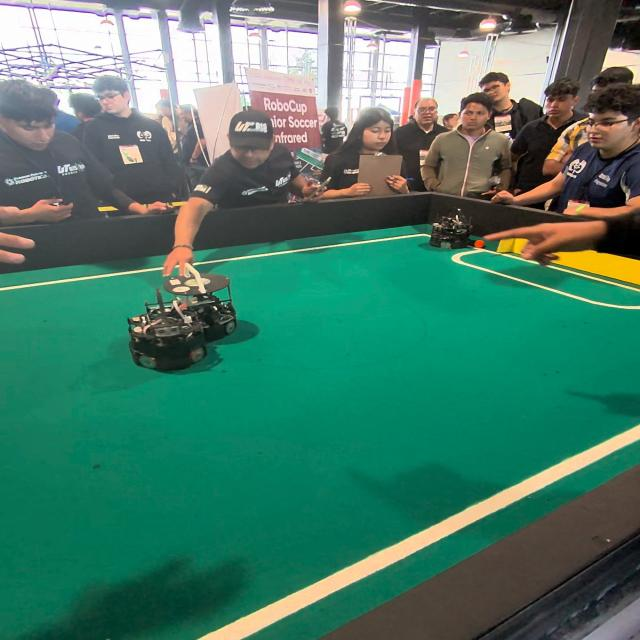Robot: (129, 284, 210, 378), (159, 272, 257, 337), (427, 207, 481, 252)
pelota: (473, 239, 484, 251)
